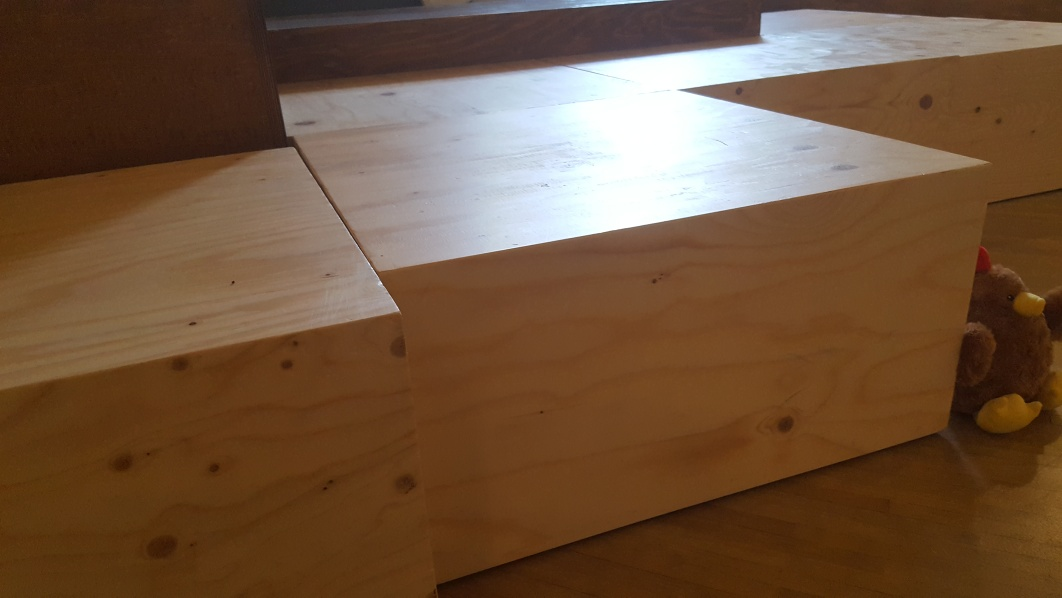chicken: (956, 244, 1062, 433)
